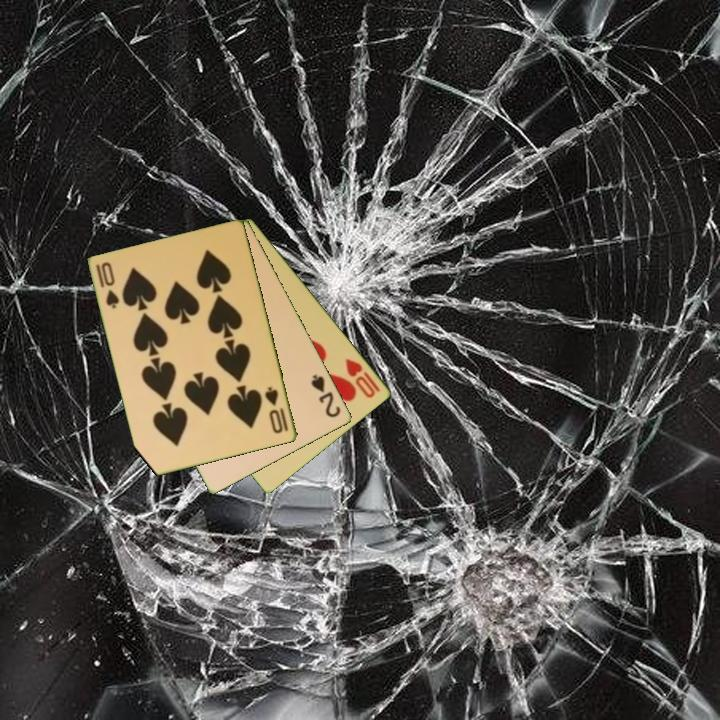10h: (342, 355, 379, 401)
10s: (261, 383, 292, 437), (93, 259, 122, 312)
2s: (308, 371, 344, 421)
